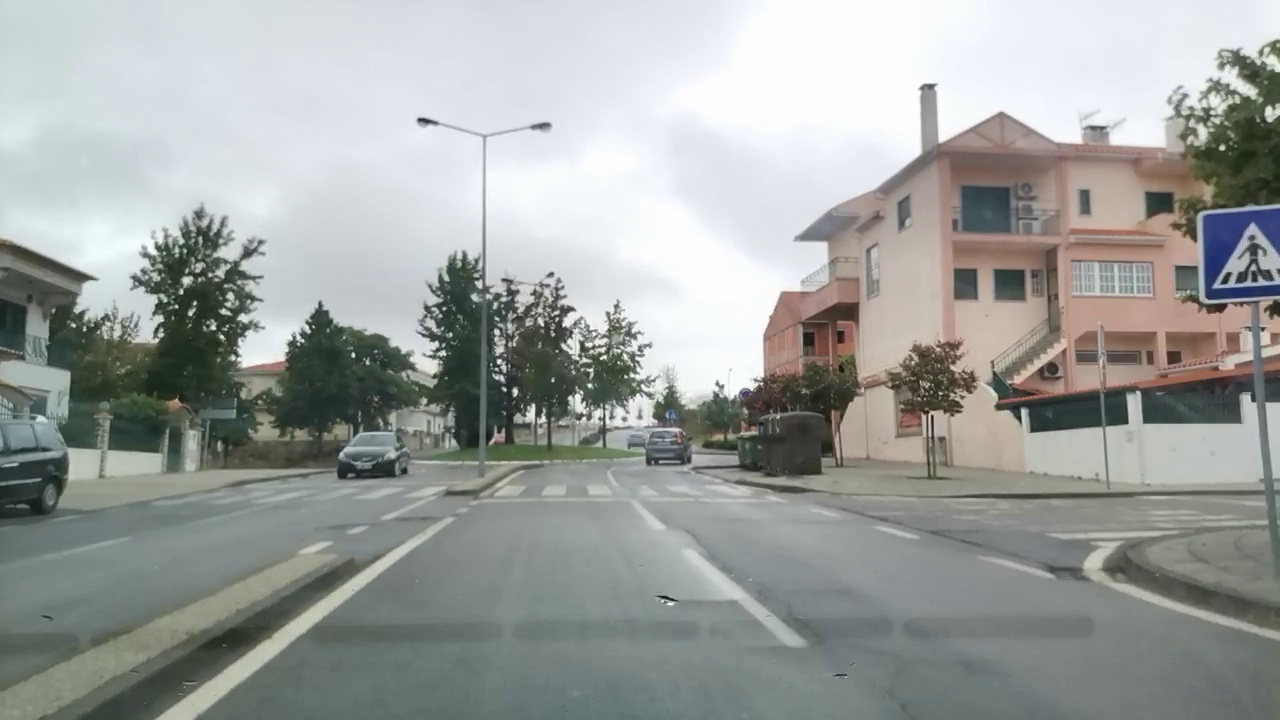Stairs: (954, 495, 1231, 550), (164, 482, 446, 505), (493, 480, 760, 499)
